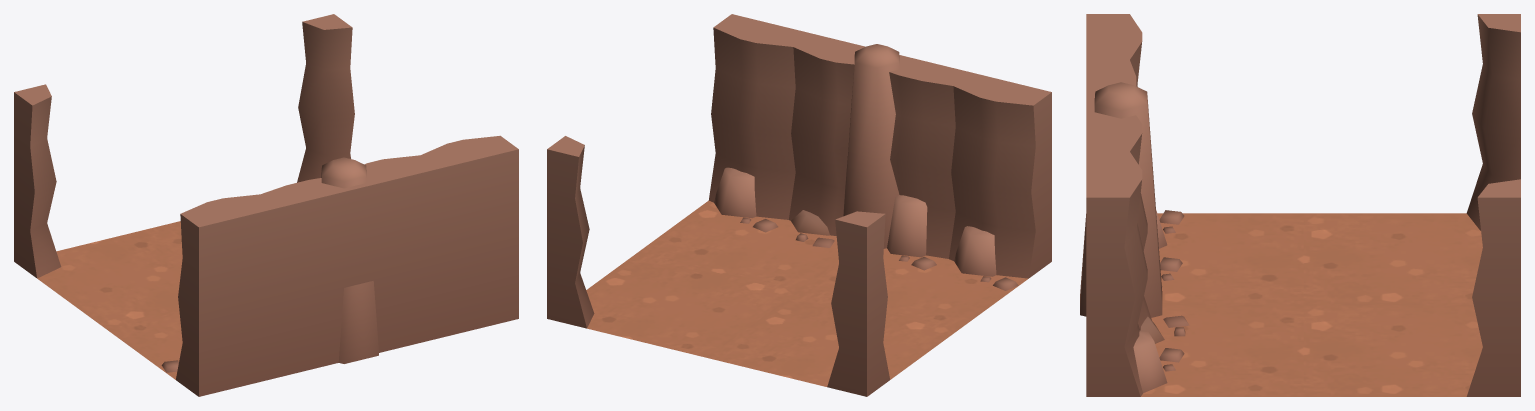
The model's file is corridor-wide-junction.obj.
3 renders of one model, left to right at view 1: azimuth 30°, elevation 25°; view 2: azimuth 150°, elevation 25°; view 3: azimuth 270°, elevation 25°, orthographic. The views are drawn at different scales.
Parts seen in each view (by area): view 1: corridor-wide-junction; view 2: corridor-wide-junction; view 3: corridor-wide-junction.
Part boxes in pixels (x1,y1,x2,y2): corridor-wide-junction: (14, 14, 518, 396); corridor-wide-junction: (547, 14, 1051, 396); corridor-wide-junction: (1080, 14, 1520, 396).
Bounding box in the file's own units: 8 × 4.4 × 8.12.
Materials: 1 (1 with a texture image).
